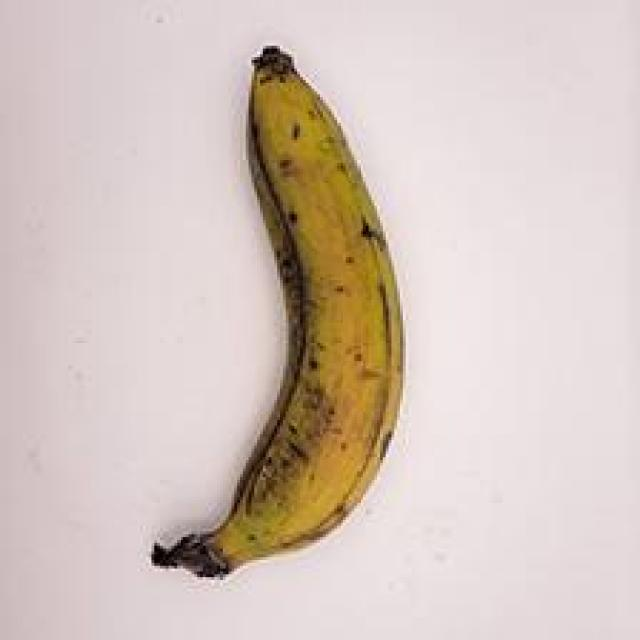Overripe: (138, 13, 435, 600)
